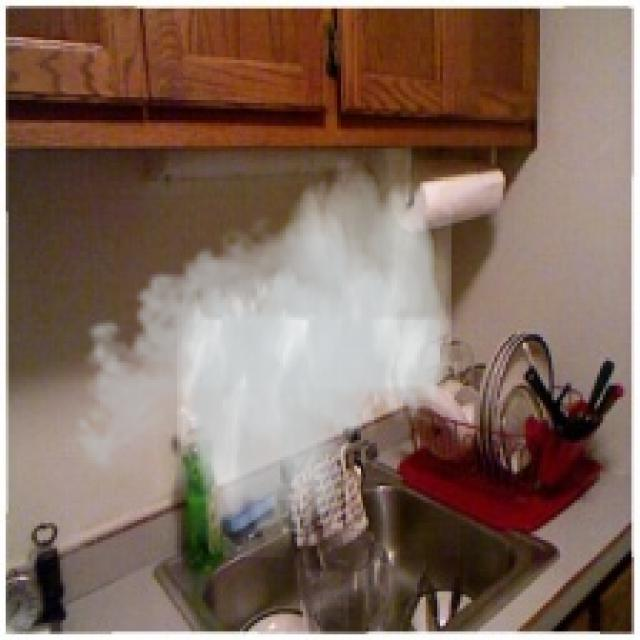smoke: (63, 149, 451, 557)
